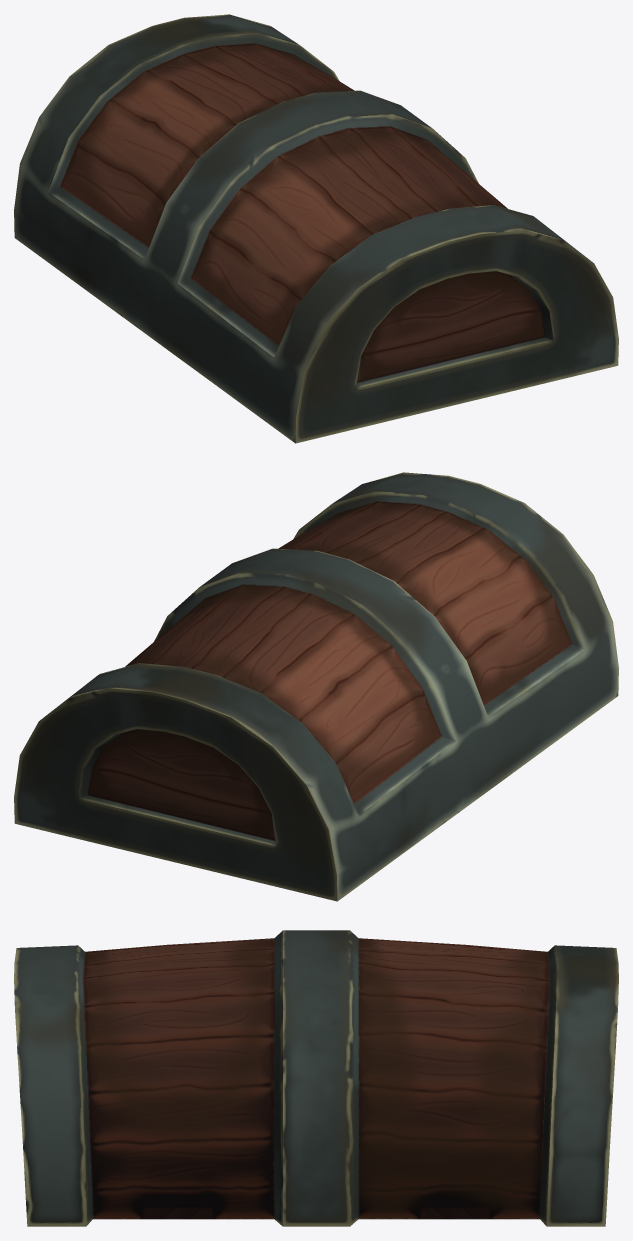
File: SM_Chest_Top.fbx
The picture shows the model from 3 angles, top to bottom: view 1: azimuth 30°, elevation 25°; view 2: azimuth 150°, elevation 25°; view 3: azimuth 270°, elevation 25°; orthographic projection. The views are drawn at different scales.
Visible parts, largest first — view 1: SM_Chest_Top_LOD0; view 2: SM_Chest_Top_LOD0; view 3: SM_Chest_Top_LOD0.
Boxes of the visible parts, x1,y1,x2,y2 form: SM_Chest_Top_LOD0: (14,14,618,443); SM_Chest_Top_LOD0: (14,472,618,901); SM_Chest_Top_LOD0: (14,930,618,1226).
Size of the model in its own units: 65.62 by 104 by 37.56.
Materials: 1 (1 with a texture image).
